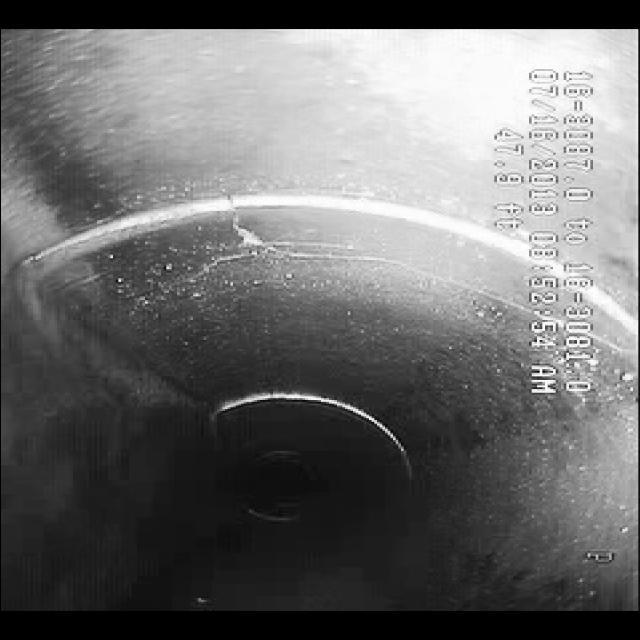Crack: (224, 230, 482, 308)
